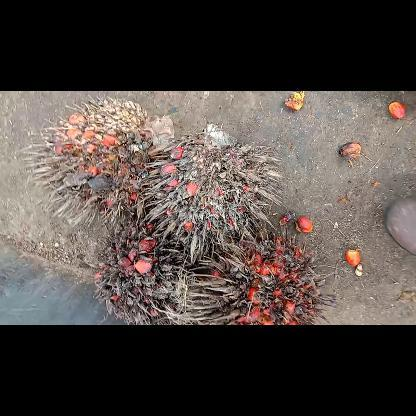Terlalu masak: (134, 118, 286, 263), (20, 96, 176, 228), (182, 224, 338, 324), (92, 214, 206, 324)
